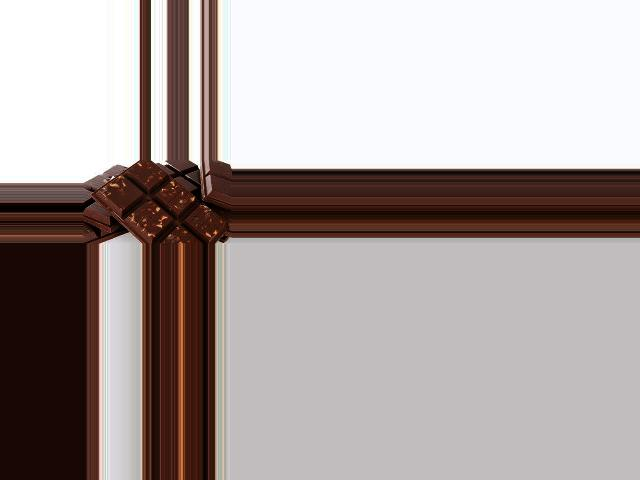chocolate: (101, 161, 227, 244)
